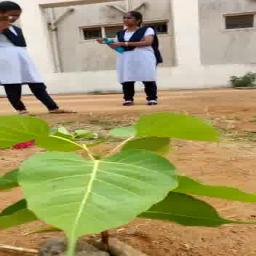LEAVS: (0, 107, 240, 250)
